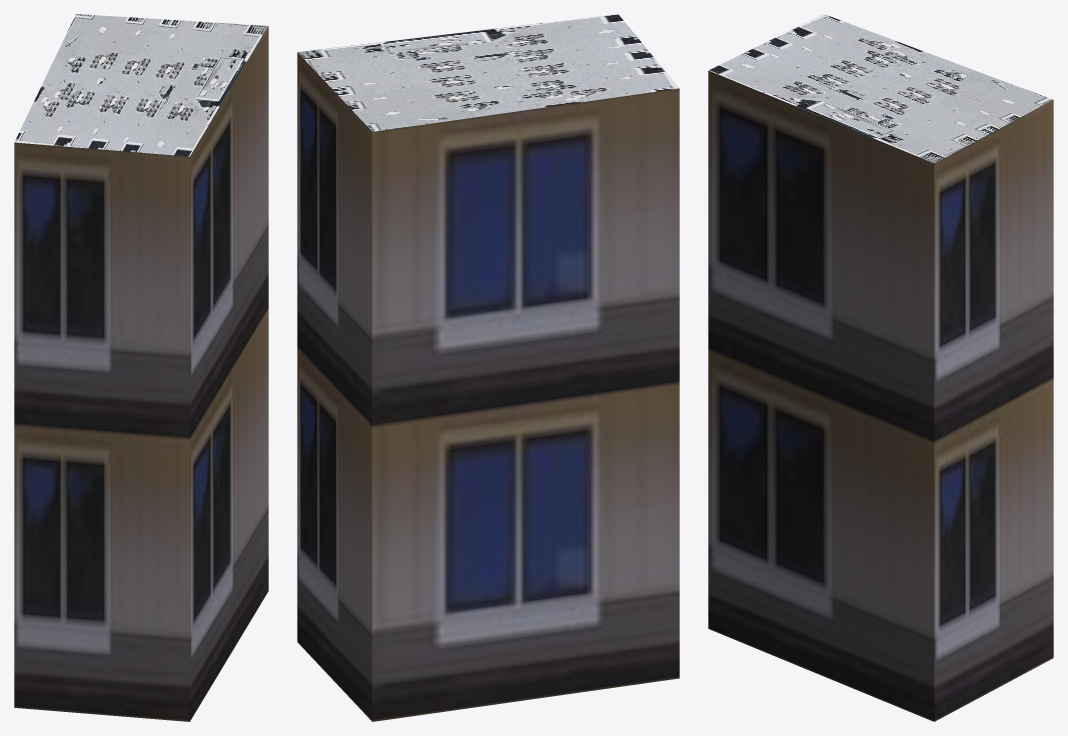
File: ResTex__3666.fbx
The picture shows the model from 3 angles, left to right: view 1: azimuth 30°, elevation 25°; view 2: azimuth 150°, elevation 25°; view 3: azimuth 270°, elevation 25°; orthographic projection. The views are drawn at different scales.
Parts seen in each view (by area): view 1: CityEngineMaterial_5_m, CityEngineMaterial_m; view 2: CityEngineMaterial_5_m, CityEngineMaterial_m; view 3: CityEngineMaterial_5_m, CityEngineMaterial_m.
Boxes of the visible parts, x1=… form: CityEngineMaterial_5_m: x1=14, y1=26, x2=268, y2=721; CityEngineMaterial_m: x1=14, y1=14, x2=268, y2=156; CityEngineMaterial_5_m: x1=297, y1=52, x2=679, y2=721; CityEngineMaterial_m: x1=297, y1=14, x2=679, y2=131; CityEngineMaterial_5_m: x1=708, y1=70, x2=1053, y2=721; CityEngineMaterial_m: x1=708, y1=14, x2=1053, y2=163.
Size of the model in its own units: 3.45 by 6 by 3.36.
Materials: 2 (2 with a texture image).
